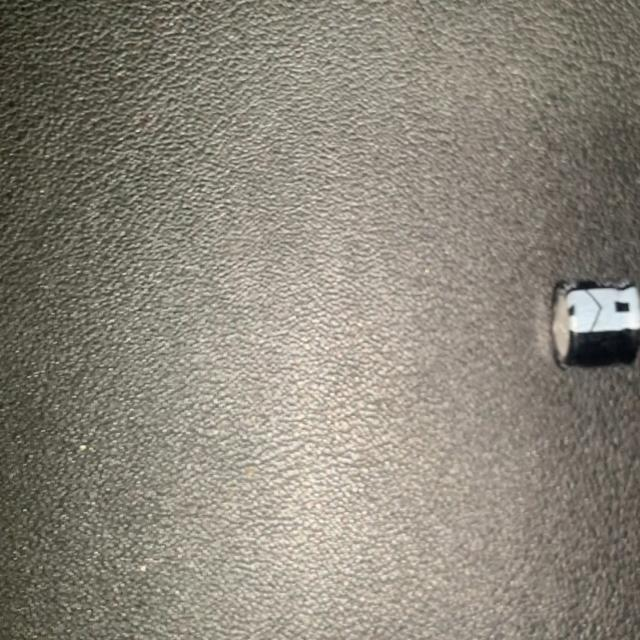capacitor: (549, 270, 640, 375)
